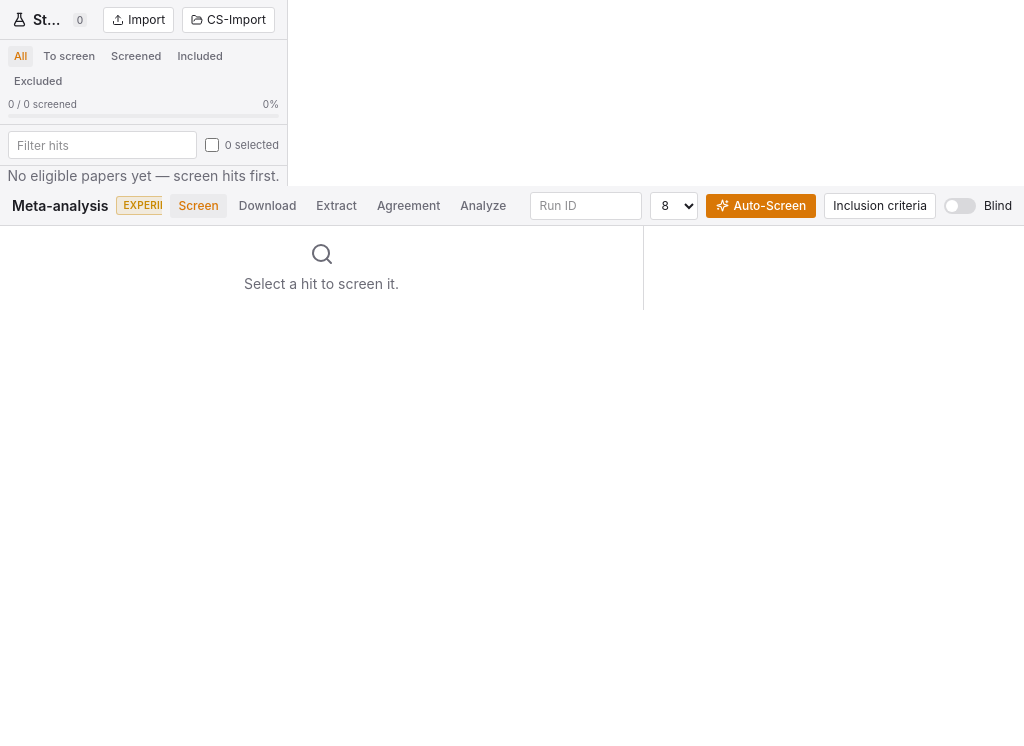
Scenario: MetaView analyze tab › renders the nested PRISMA flow and exclusion reasons
The width and height of the screenshot is (1024, 746).
What coordinates should you click on to do the following:
click the button "Analyze"
I would click on:
 (483, 206)
Its box is x1=452 y1=194 x2=514 y2=218.
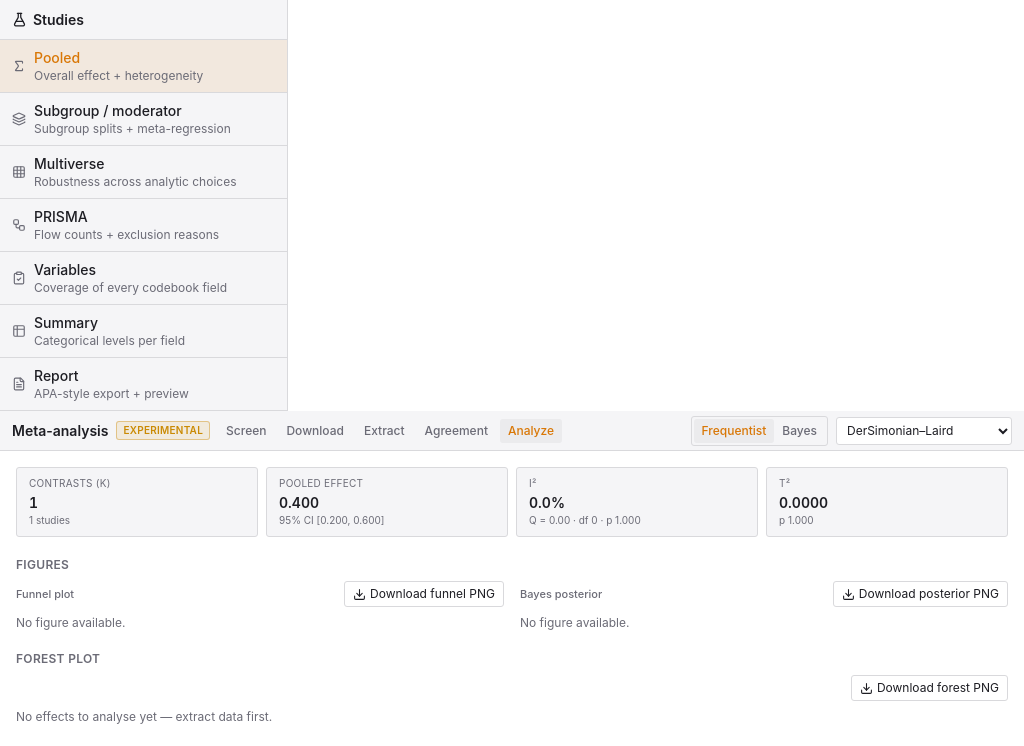
What coordinates should you click on to do the following:
click the button "PRISMA Flow counts + exclusion reasons"
I would click on:
 (144, 226)
Its box is x1=0 y1=199 x2=287 y2=252.
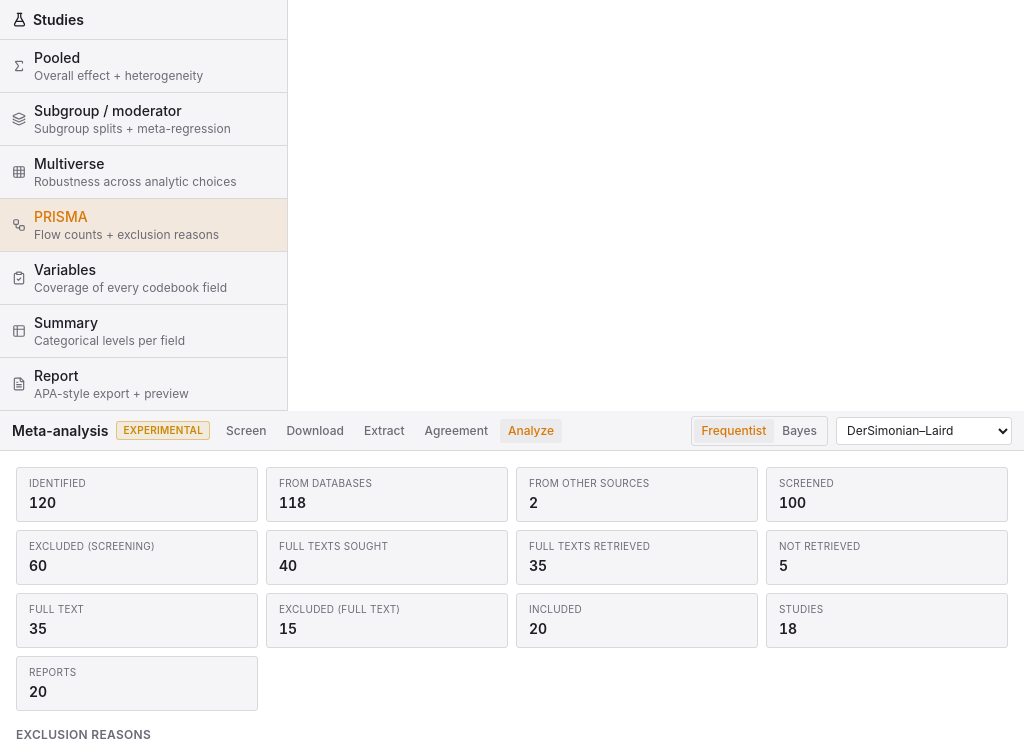
Now the text "From databases" is shown, box x1=279 y1=477 x2=372 y2=489
Now the text "Not retrieved" is shown, box x1=779 y1=540 x2=861 y2=552
Now the text "118" is shown, box x1=279 y1=494 x2=306 y2=511
